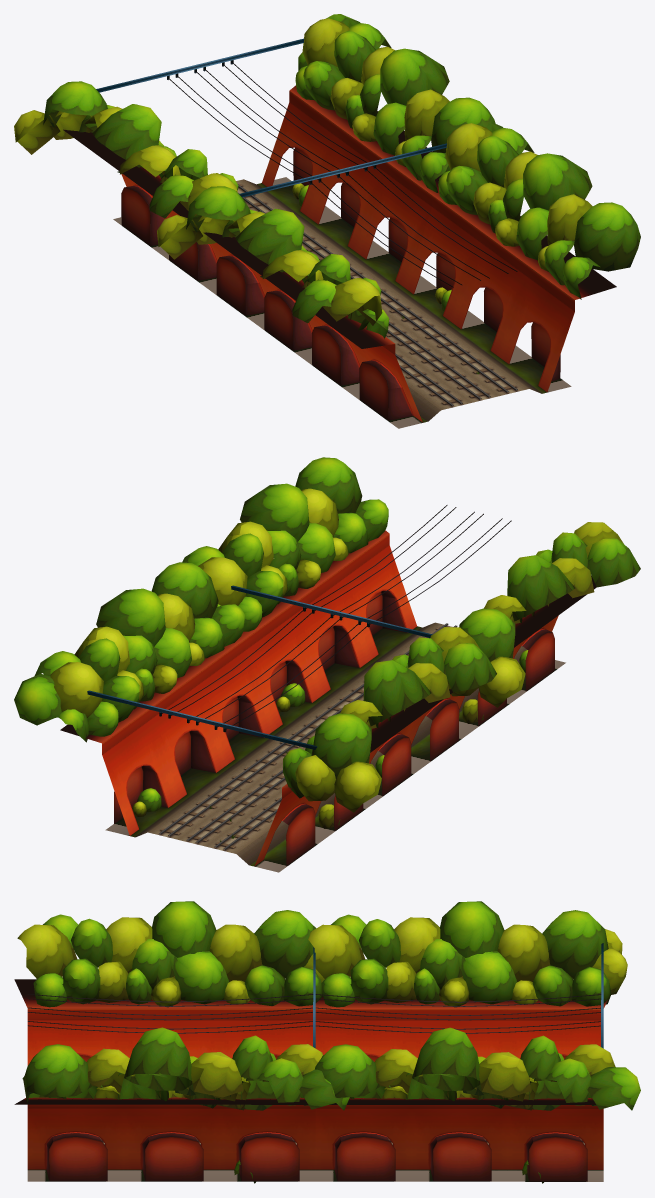
Rendered from platform2.fbx.
3 renders of one model, top to bottom at view 1: azimuth 30°, elevation 25°; view 2: azimuth 150°, elevation 25°; view 3: azimuth 270°, elevation 25°, orthographic.
Visible parts, largest first — view 1: Platform1; view 2: Platform1; view 3: Platform1.
Part boxes in pixels (box(x1,y1,x2,y2)): Platform1: box(14, 14, 640, 428); Platform1: box(14, 457, 640, 872); Platform1: box(14, 901, 640, 1183).
Size of the model in its own units: 42.22 by 13.34 by 28.07.
1 material, 1 textured.
